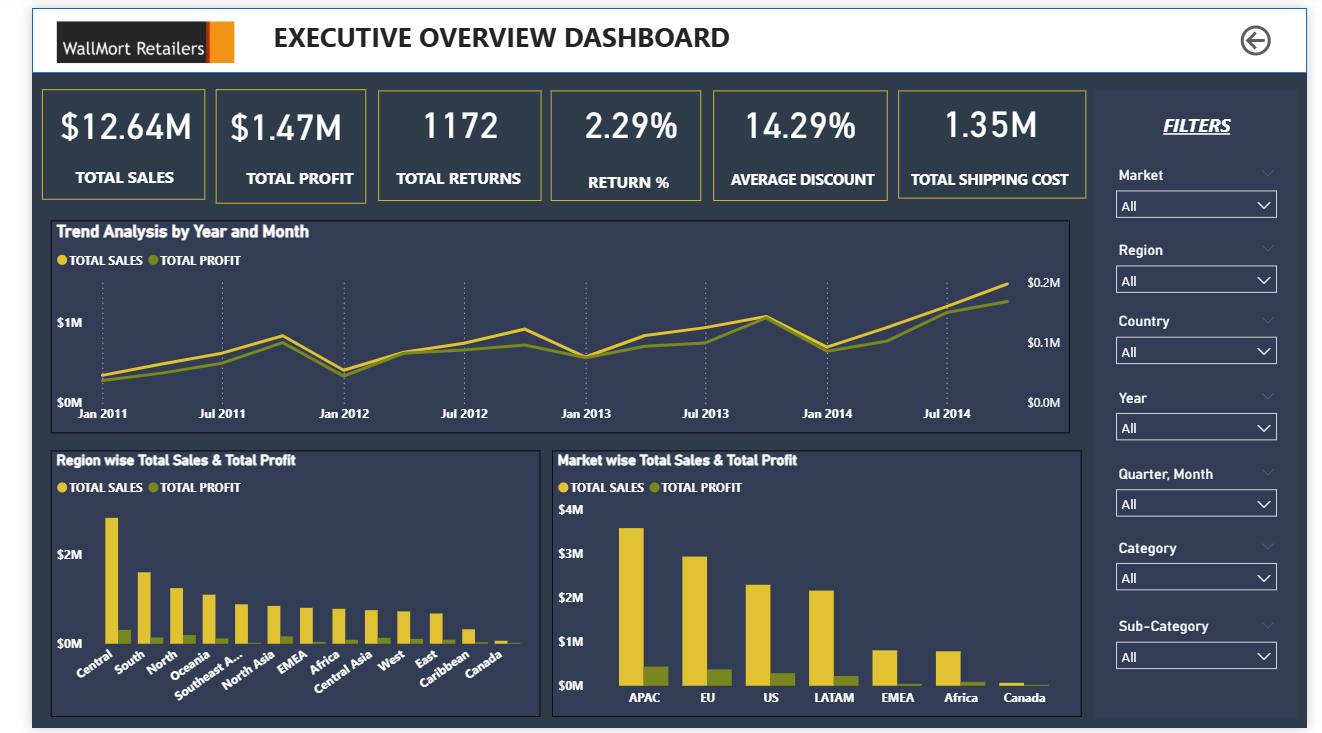

The page's visual inventory and layout, read from the dashboard file:
{"tool":"powerbi","page":{"name":"EXECUTIVE OVERVIEW DASHBOARD","canvas":[1275,720],"ordinal":1},"visuals":[{"type":"shape","box":[0,0,1275,65],"z":0},{"type":"shape","box":[183.3,81,150,114.3],"z":0,"group":"g1"},{"type":"shape","box":[681.7,82.1,174.3,110],"z":0,"group":"g4"},{"type":"shape","box":[345.7,82.9,162.9,110],"z":0,"group":"g2"},{"type":"shape","box":[866.3,83,188.1,108.3],"z":0,"group":"g5"},{"type":"shape","box":[519.2,83.1,150,110],"z":0,"group":"g3"},{"type":"image","box":[20,5.7,187.1,55.7],"z":1000},{"type":"card","fields":{"Values":["Orders.AVG DISCOUNT"]},"box":[693.9,82.3,148.3,63.3],"z":1000,"group":"g4"},{"type":"card","fields":{"Values":["Orders.TOTAL RETURNS"]},"box":[352.8,82.9,148.6,62.9],"z":1000,"group":"g2"},{"type":"card","fields":{"Values":["Orders.RETURN %"]},"box":[525.7,82.9,148.6,62.9],"z":1000,"group":"g3"},{"type":"card","fields":{"Values":["Orders.TOTAL SHIPPING COST"]},"box":[880.7,83.1,156.7,61.7],"z":1000,"group":"g5"},{"type":"card","fields":{"Values":["Orders.TOTAL PROFIT"]},"box":[179.4,84.4,148.3,63.3],"z":1000,"group":"g1"},{"type":"textbox","box":[236.7,5,486.7,56.7],"z":2000},{"type":"textbox","box":[685.8,155.9,171.4,33.3],"z":2000,"group":"g4"},{"type":"textbox","box":[863.9,156.8,188.1,38.1],"z":2000,"group":"g5"},{"type":"textbox","box":[520.2,158.1,153.6,32.1],"z":2000,"group":"g3"},{"type":"shape","box":[10,81.4,162.9,110],"z":3000},{"type":"shape","box":[1061.4,81.4,205.7,628.6],"z":4000},{"type":"textbox","box":[1084.5,98.8,159.5,38.1],"z":5000},{"type":"clusteredColumnChart","title":"Region wise Total Sales & Total Profit","fields":{"Category":["Orders.Region"],"Y":["Orders.TOTAL SALES","Orders.TOTAL PROFIT"]},"box":[19,442.9,489.3,266.7],"z":6000},{"type":"clusteredColumnChart","title":"Market wise Total Sales & Total Profit","fields":{"Category":["Orders.Market"],"Y":["Orders.TOTAL SALES","Orders.TOTAL PROFIT"]},"box":[520.2,442.9,529.8,266.7],"z":7000},{"type":"card","fields":{"Values":["Orders.TOTAL SALES"]},"box":[20,98.3,148.3,55],"z":8000},{"type":"textbox","box":[19,152.4,147.6,39.3],"z":9000},{"type":"group","id":"g1","title":"Group 1","box":[179.4,81,153.9,114.3],"z":10000},{"type":"group","id":"g2","title":"Group 1","box":[345.7,82.9,162.9,110],"z":11000},{"type":"group","id":"g3","title":"Group 1","box":[519.2,82.9,155.1,110.2],"z":12000},{"type":"group","id":"g4","title":"Group 1","box":[681.7,82.1,175.5,110],"z":13000},{"type":"group","id":"g5","title":"Group 1","box":[863.9,83,190.5,111.9],"z":14000},{"type":"textbox","box":[194.3,154.3,148.6,34.3],"z":15000},{"type":"textbox","box":[345.2,153.6,163.1,39.3],"z":16000},{"type":"slicer","fields":{"Values":["Orders.Category"]},"box":[1073.8,526.2,181,59.5],"z":17000},{"type":"slicer","fields":{"Values":["Orders.Region"]},"box":[1073.8,228.6,181,59.5],"z":18000},{"type":"slicer","fields":{"Values":["Orders.Sub-Category"]},"box":[1073.8,604.8,181,59.5],"z":19000},{"type":"slicer","fields":{"Values":["Orders.Market"]},"box":[1073.8,153.6,181,59.5],"z":20000},{"type":"slicer","fields":{"Values":["Orders.Order Date.Variation.Date Hierarchy.Year"]},"box":[1073.8,376.2,181,59.5],"z":21000},{"type":"slicer","fields":{"Values":["Orders.Order Date.Variation.Date Hierarchy.Quarter","Orders.Order Date.Variation.Date Hierarchy.Month"]},"box":[1073.8,452.4,181,59.5],"z":22000},{"type":"slicer","fields":{"Values":["Orders.Country"]},"box":[1073.8,300,181,59.5],"z":23000},{"type":"lineChart","title":"Trend Analysis by Year and Month","fields":{"Category":["Orders.Order Date.Variation.Date Hierarchy.Year","Orders.Order Date.Variation.Date Hierarchy.Quarter","Orders.Order Date.Variation.Date Hierarchy.Month"],"Y":["Orders.TOTAL SALES"],"Y2":["Orders.TOTAL PROFIT"]},"box":[19,213.1,1019,213.1],"z":24000},{"type":"actionButton","box":[1204.3,12.9,40,40],"z":25000}]}

Visuals, with their boxes in screenshot pixels (x1, y1, x2, y2), scaled from the page's 1275x720 canvas onto the 1322x733 screenshot:
shape: box(0, 0, 1321, 66)
shape: box(190, 82, 346, 199)
shape: box(707, 84, 888, 196)
shape: box(358, 84, 527, 196)
shape: box(898, 84, 1093, 195)
shape: box(538, 85, 694, 197)
image: box(21, 6, 215, 63)
card - Orders.AVG DISCOUNT: box(719, 84, 873, 148)
card - Orders.TOTAL RETURNS: box(366, 84, 520, 148)
card - Orders.RETURN %: box(545, 84, 699, 148)
card - Orders.TOTAL SHIPPING COST: box(913, 85, 1076, 147)
card - Orders.TOTAL PROFIT: box(186, 86, 340, 150)
textbox: box(245, 5, 750, 63)
textbox: box(711, 159, 889, 193)
textbox: box(896, 160, 1091, 198)
textbox: box(539, 161, 699, 194)
shape: box(10, 83, 179, 195)
shape: box(1101, 83, 1314, 723)
textbox: box(1124, 101, 1290, 139)
"Region wise Total Sales & Total Profit" clusteredColumnChart: box(20, 451, 527, 722)
"Market wise Total Sales & Total Profit" clusteredColumnChart: box(539, 451, 1089, 722)
card - Orders.TOTAL SALES: box(21, 100, 175, 156)
textbox: box(20, 155, 173, 195)
"Group 1" group: box(186, 82, 346, 199)
"Group 1" group: box(358, 84, 527, 196)
"Group 1" group: box(538, 84, 699, 197)
"Group 1" group: box(707, 84, 889, 196)
"Group 1" group: box(896, 84, 1093, 198)
textbox: box(201, 157, 356, 192)
textbox: box(358, 156, 527, 196)
slicer - Orders.Category: box(1113, 536, 1301, 596)
slicer - Orders.Region: box(1113, 233, 1301, 293)
slicer - Orders.Sub-Category: box(1113, 616, 1301, 676)
slicer - Orders.Market: box(1113, 156, 1301, 217)
slicer - Orders.Order Date.Variation.Date Hierarchy.Year: box(1113, 383, 1301, 444)
slicer - Orders.Order Date.Variation.Date Hierarchy.Quarter x Orders.Order Date.Variation.Date Hierarchy.Month: box(1113, 461, 1301, 521)
slicer - Orders.Country: box(1113, 305, 1301, 366)
"Trend Analysis by Year and Month" lineChart: box(20, 217, 1076, 434)
actionButton: box(1249, 13, 1290, 54)
